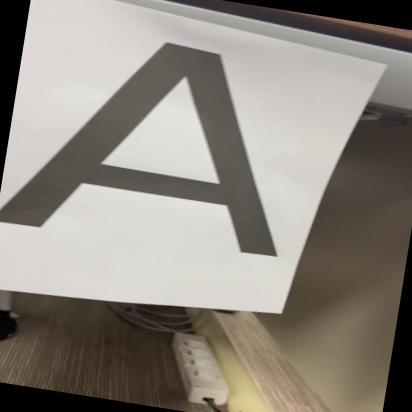seat: (0, 15, 312, 271)
